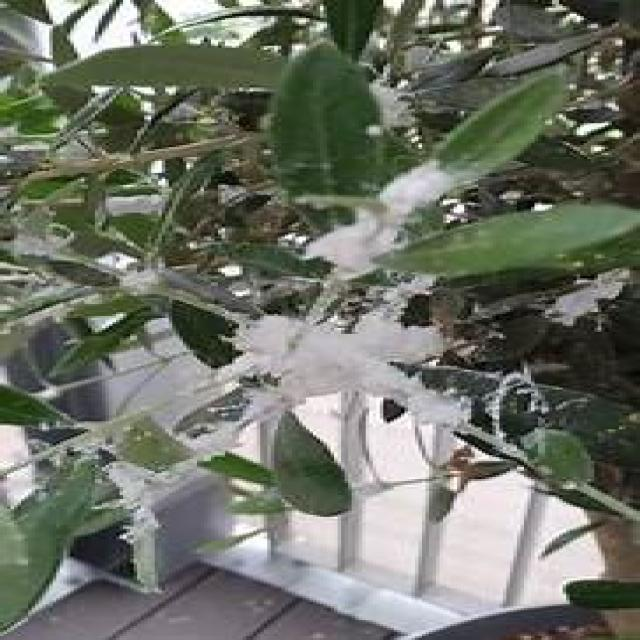Psyllid: (207, 296, 517, 457), (306, 159, 478, 278)
